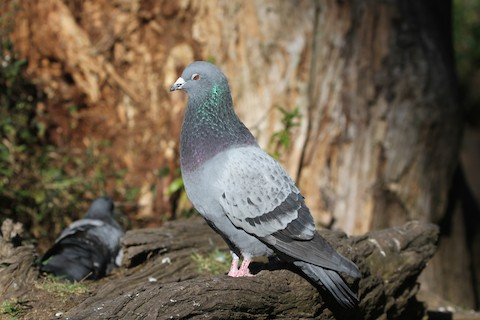pigeon: (165, 56, 370, 312), (36, 193, 128, 289)
